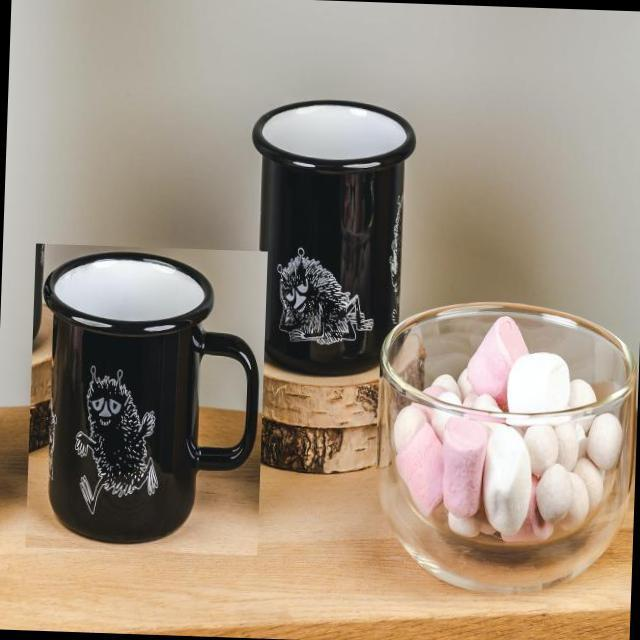taza: (35, 250, 262, 548), (240, 99, 417, 382)
